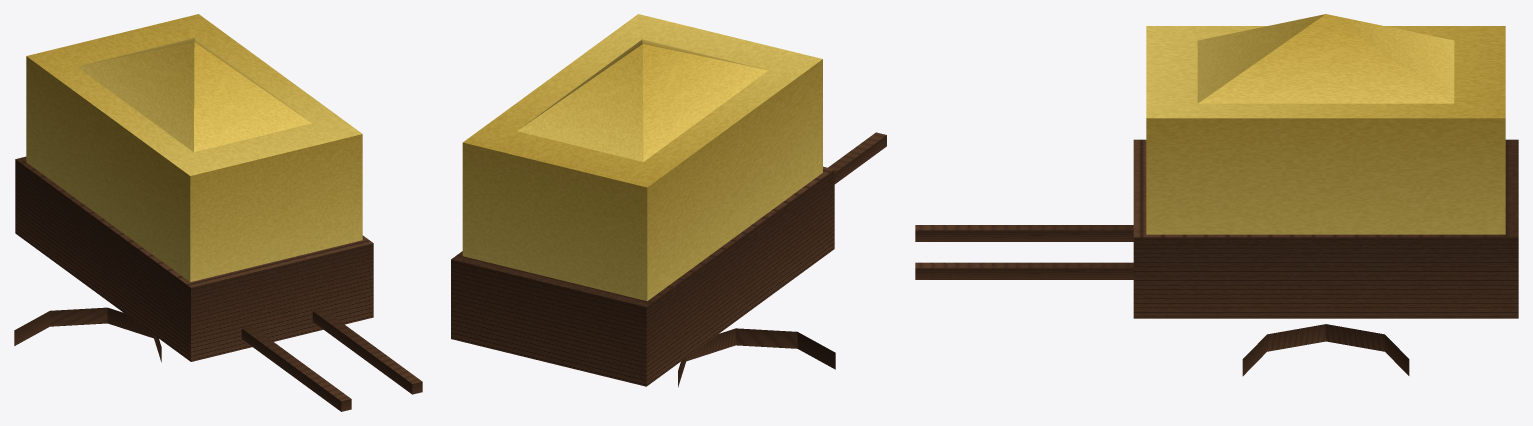
File: cart_wooden_hay.gltf
3 renders of one model, left to right at view 1: azimuth 30°, elevation 25°; view 2: azimuth 150°, elevation 25°; view 3: azimuth 270°, elevation 25°, orthographic. The views are drawn at different scales.
Parts seen in each view (by area): view 1: cart_wooden_hay; view 2: cart_wooden_hay; view 3: cart_wooden_hay.
Part boxes in pixels (x1,y1,x2,y2): cart_wooden_hay: (14,14,422,411); cart_wooden_hay: (451,14,886,387); cart_wooden_hay: (915,14,1518,376).
Size of the model in its own units: 3.25 by 2.7 by 4.7.
1 material, 1 textured.
